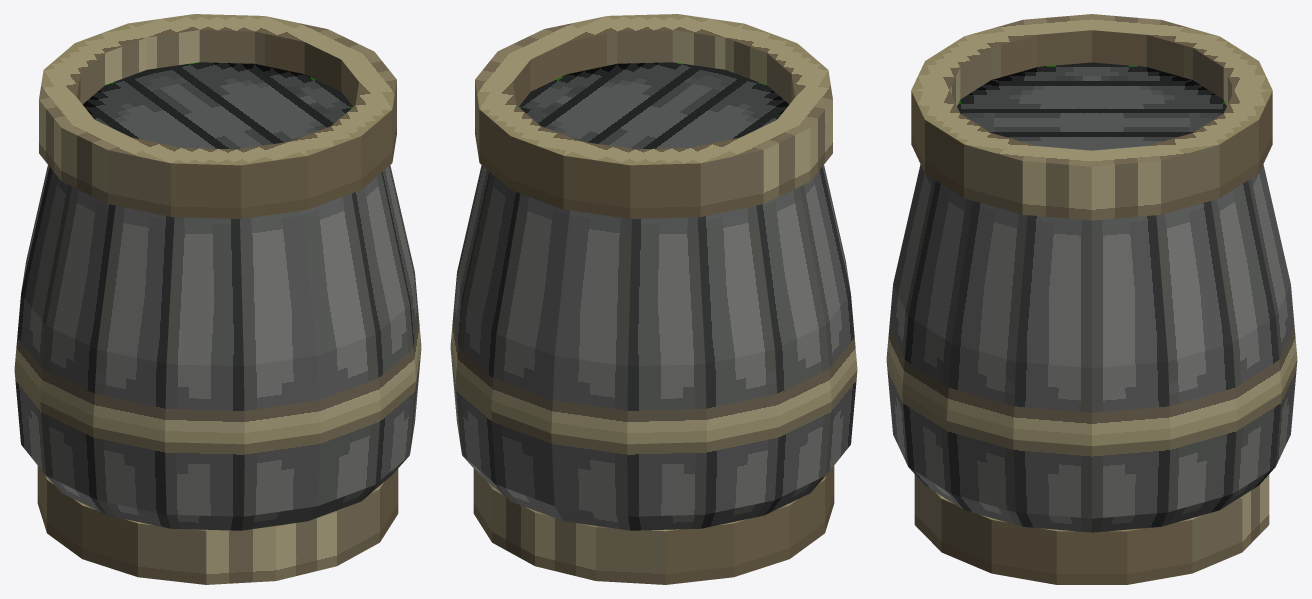
Rendered from Prp_3D_Barrel1.fbx.
3 renders of one model, left to right at view 1: azimuth 30°, elevation 25°; view 2: azimuth 150°, elevation 25°; view 3: azimuth 270°, elevation 25°, orthographic.
Visible parts, largest first — view 1: Barrel1; view 2: Barrel1; view 3: Barrel1.
Part boxes in pixels (x1,y1,x2,y2): Barrel1: (14,14,421,584); Barrel1: (450,14,857,584); Barrel1: (886,14,1297,584).
Bounding box in the file's own units: 102 × 115 × 102.
